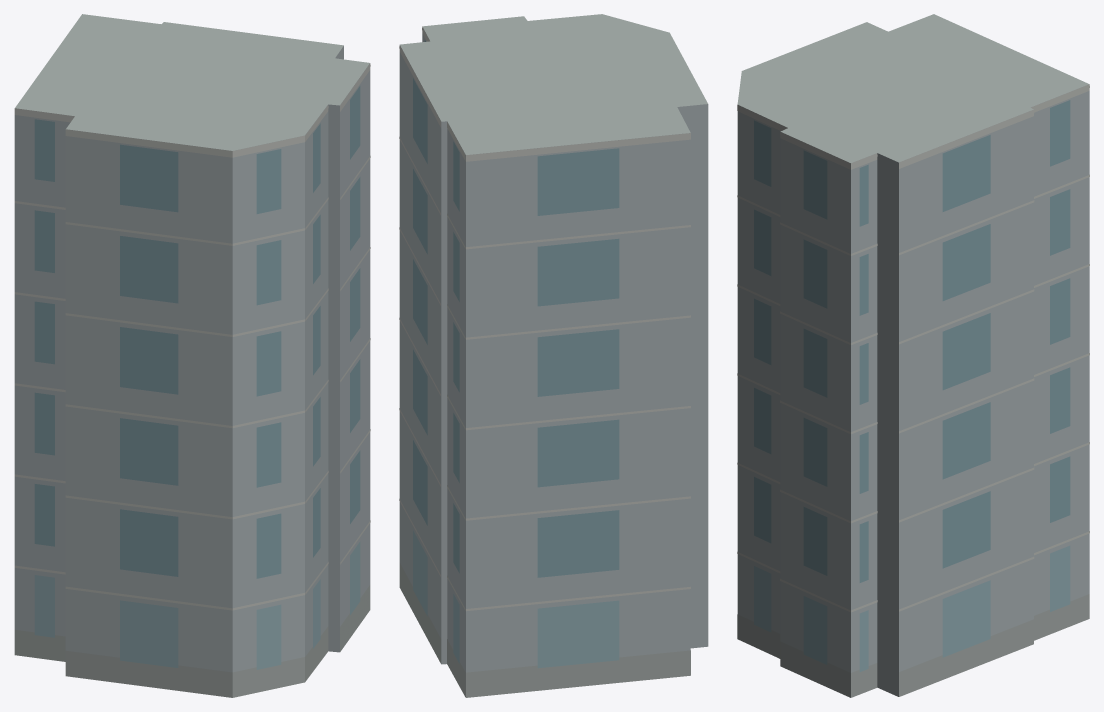
Rendered from survey-upis-32509003.glb.
The picture shows the model from 3 angles, left to right: view 1: azimuth 30°, elevation 25°; view 2: azimuth 150°, elevation 25°; view 3: azimuth 270°, elevation 25°; orthographic projection. The views are drawn at different scales.
Visible parts, largest first — view 1: survey-upis-32509003.tmp; view 2: survey-upis-32509003.tmp; view 3: survey-upis-32509003.tmp.
Part boxes in pixels (left/top/right/bottom): survey-upis-32509003.tmp: left=14, top=14, right=370, bottom=697; survey-upis-32509003.tmp: left=399, top=14, right=708, bottom=697; survey-upis-32509003.tmp: left=737, top=14, right=1089, bottom=697.
Size of the model in its own units: 11.82 by 19.7 by 11.78.
